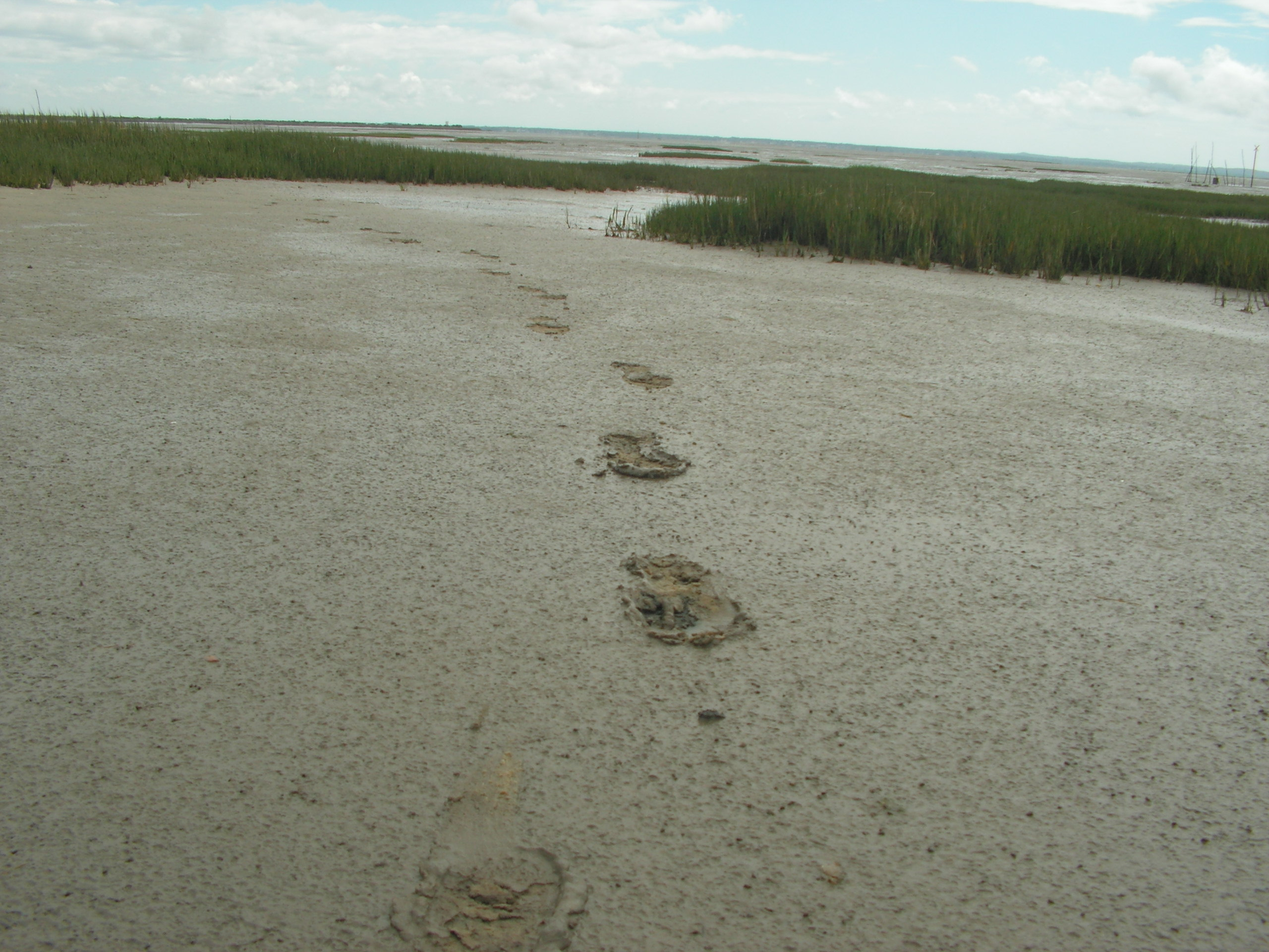human_foot_print: (390, 754, 588, 952), (619, 554, 754, 646), (600, 433, 690, 478), (611, 362, 672, 388)
